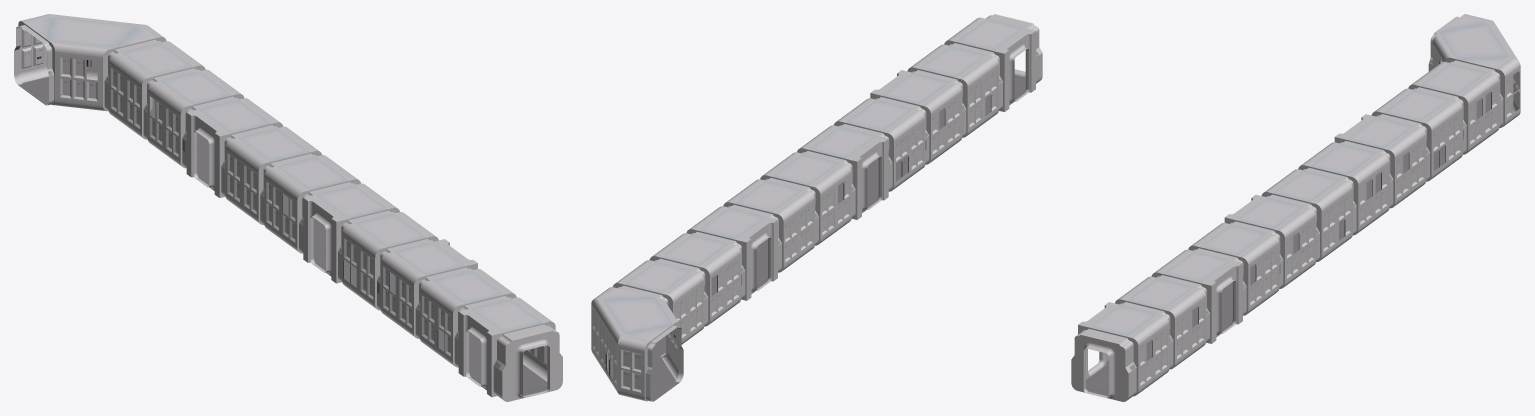
Rendered from thm_spc_corvette_dungeon_r32_hall32_mesh_r32.fbx.
3 renders of one model, left to right at view 1: azimuth 30°, elevation 25°; view 2: azimuth 150°, elevation 25°; view 3: azimuth 330°, elevation 25°, orthographic. The views are drawn at different scales.
Parts seen in each view (by area): view 1: mesh_node; view 2: mesh_node; view 3: mesh_node.
Part boxes in pixels (x1=…): mesh_node: x1=14, y1=14, x2=562, y2=401; mesh_node: x1=591, y1=14, x2=1042, y2=401; mesh_node: x1=1071, y1=14, x2=1520, y2=401.
Bounding box in the file's own units: 6 × 3.5 × 46.9.
